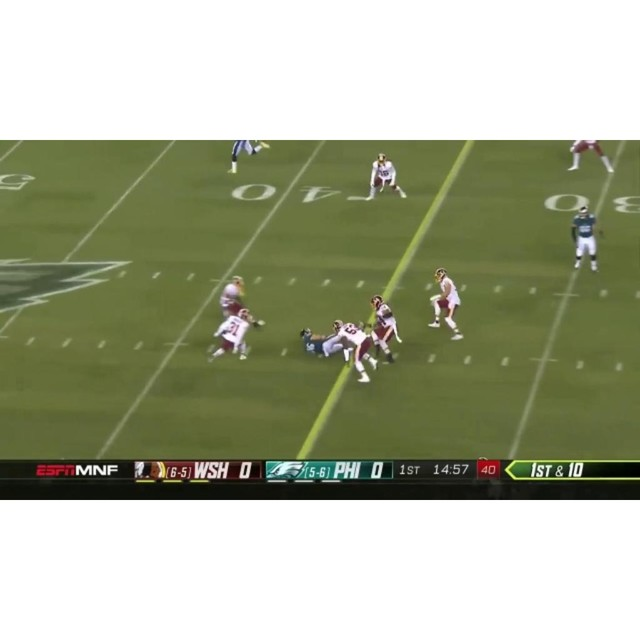american-football-player: (332, 319, 380, 383), (426, 268, 466, 340), (208, 309, 258, 363), (367, 295, 402, 365), (569, 205, 604, 272), (365, 153, 407, 201), (298, 323, 349, 360), (567, 140, 614, 174), (226, 140, 270, 174), (218, 275, 247, 318)
